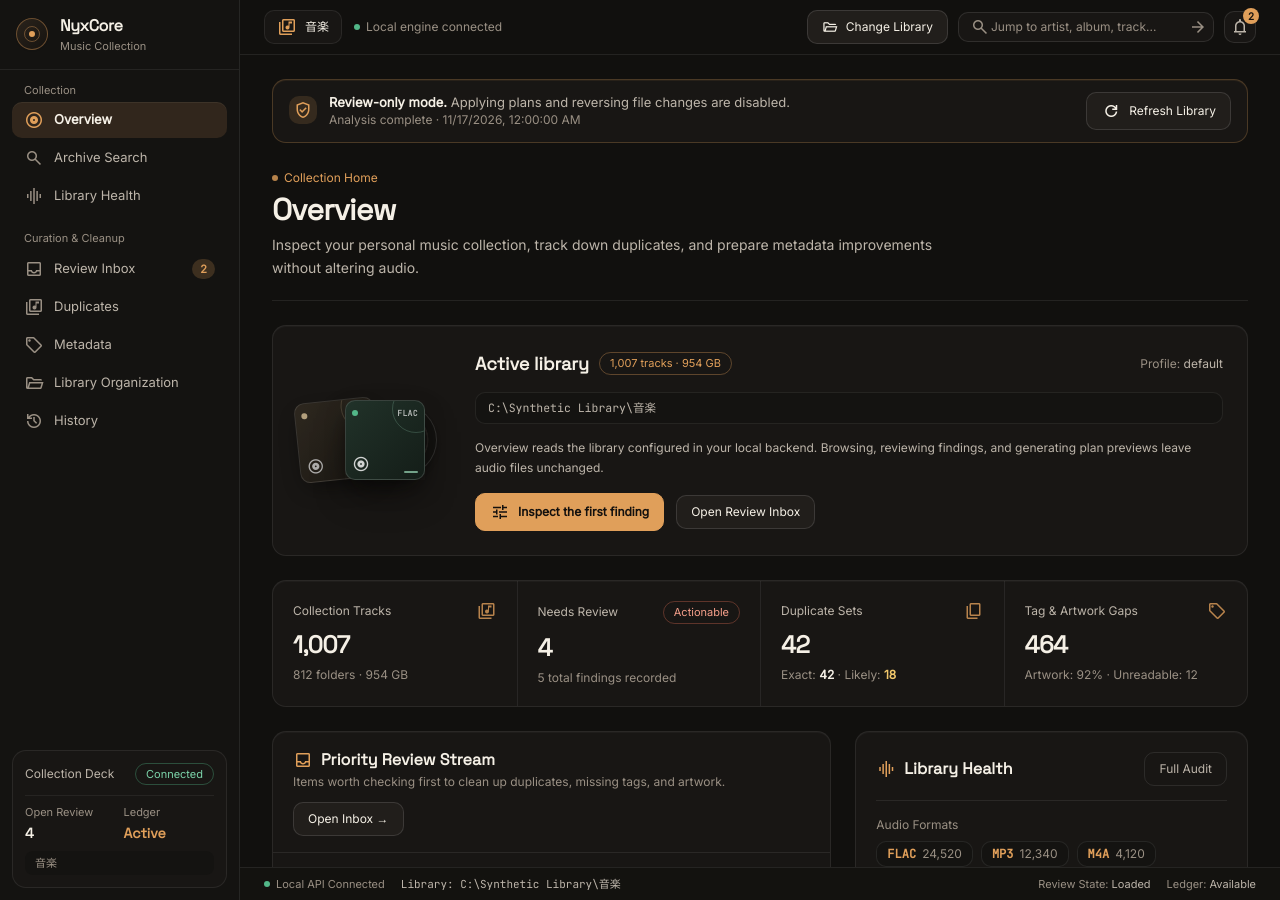
Overview first run › offers Metadata and a keyboard-dismissible library picker in the desktop window
Check: the text "Local API Connected" is shown, box [264, 876, 385, 892]
Click the button "Change Library" at [877, 27], box [807, 10, 948, 44]
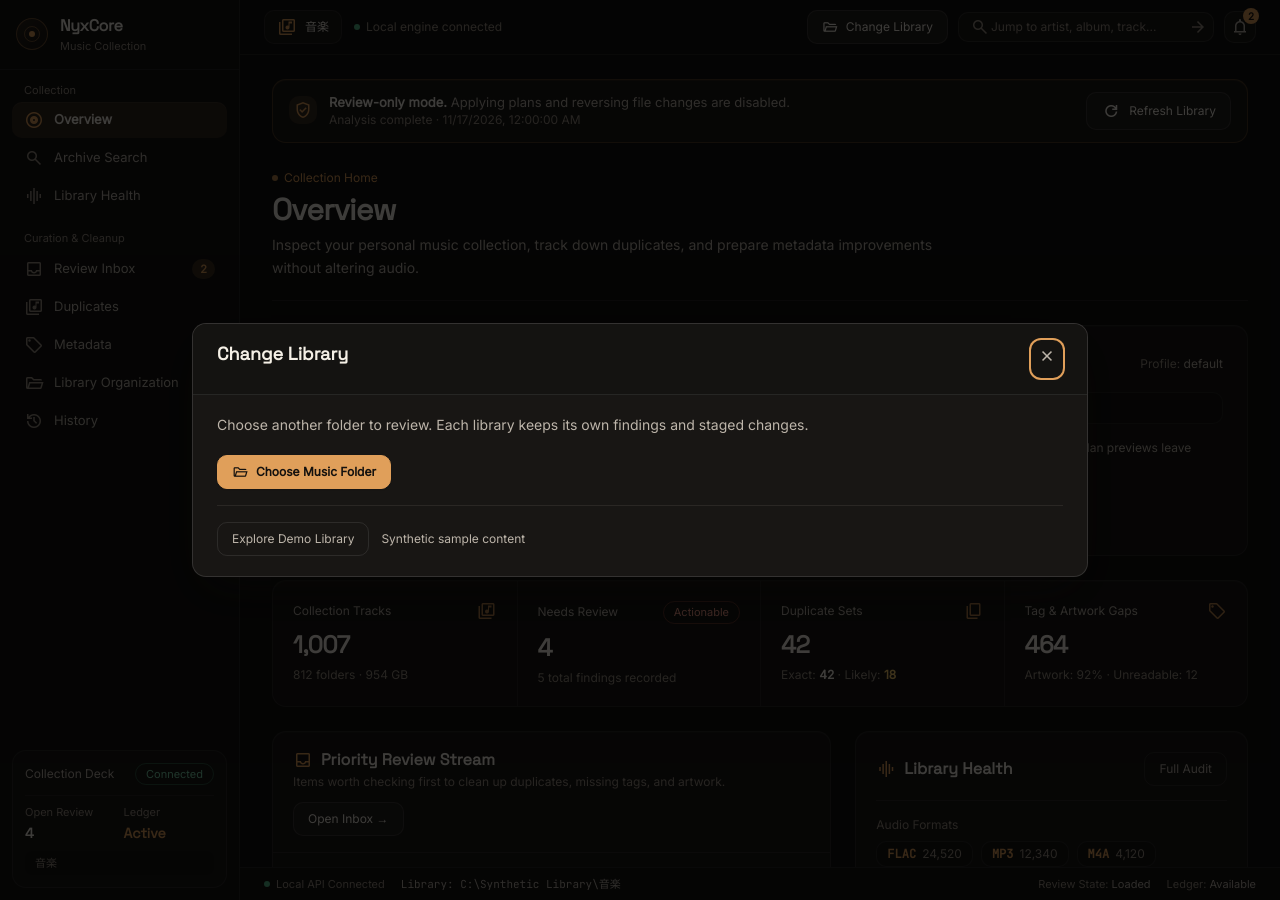
Check: the dialog "Change Library" is shown, box [192, 323, 1088, 577]
Check: the button "Choose Music Folder" is shown, box [217, 455, 391, 489]
Press Escape
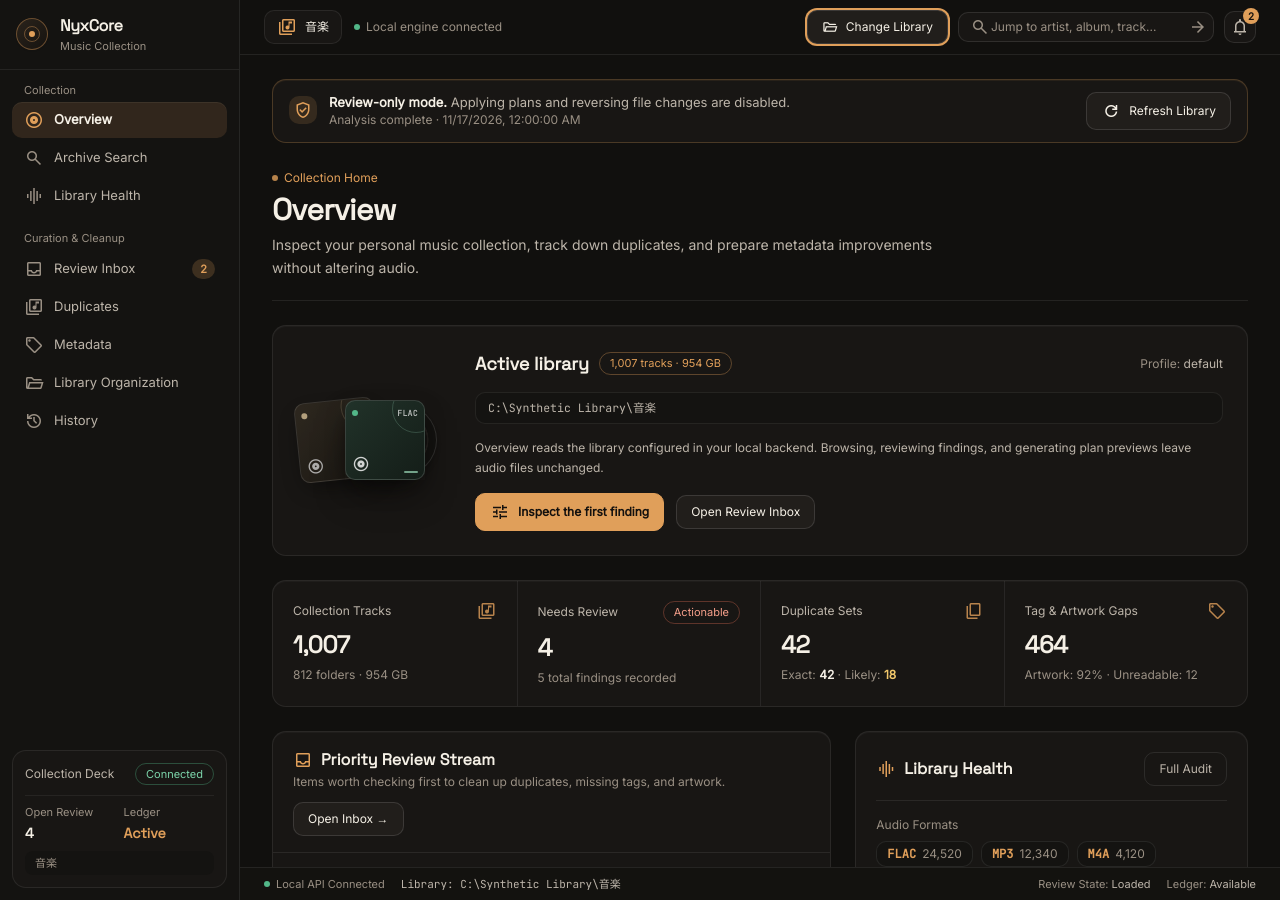
Check: the dialog is gone
